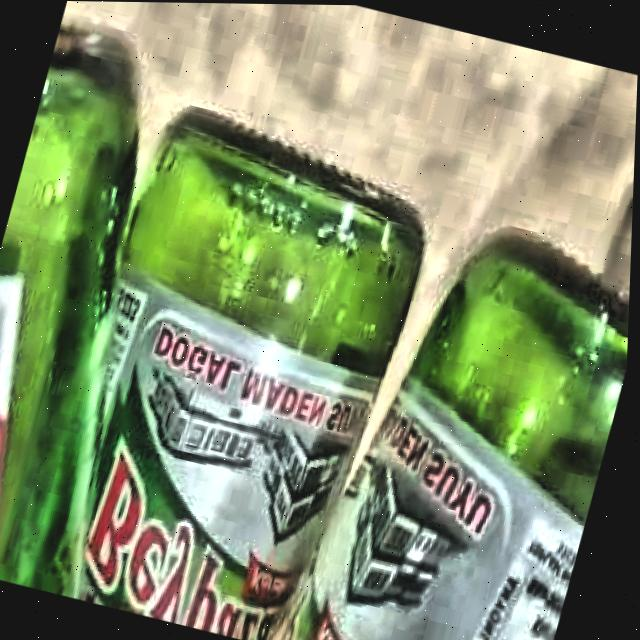glass: (0, 23, 631, 640)
